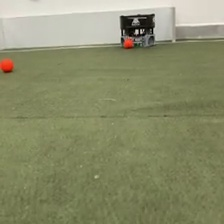ball: (1, 57, 13, 72), (122, 36, 134, 48)
goal: (1, 2, 178, 52)
robot: (118, 11, 157, 49)
